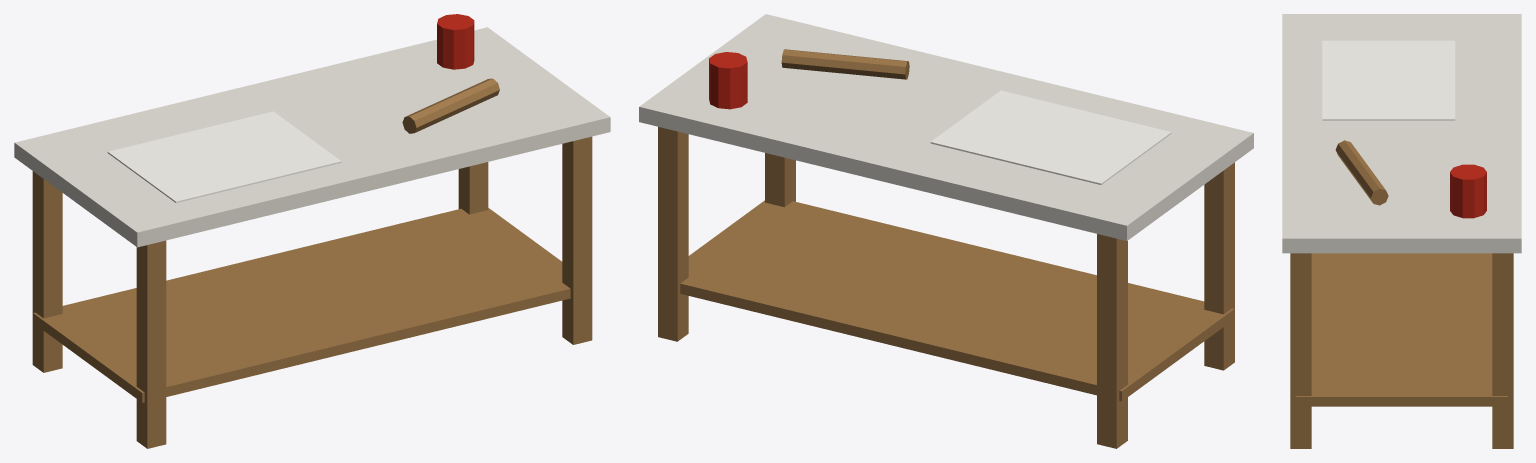
File: dough_table.glb
3 views of the same model, side by side, from view 1: azimuth 30°, elevation 25°; view 2: azimuth 150°, elevation 25°; view 3: azimuth 270°, elevation 25° (orthographic). The views are drawn at different scales.
Visible parts, largest first — view 1: top_marble, shelf_table_wood, legs_table_wood, flour_flour_dust, jar_sauce_red, pin_table_wood; view 2: top_marble, shelf_table_wood, legs_table_wood, flour_flour_dust, pin_table_wood, jar_sauce_red; view 3: top_marble, shelf_table_wood, flour_flour_dust, legs_table_wood, jar_sauce_red, pin_table_wood.
Boxes of the visible parts, x1,y1,x2,y2 form: top_marble: (14, 27, 610, 247); shelf_table_wood: (33, 208, 570, 402); legs_table_wood: (32, 136, 592, 448); flour_flour_dust: (107, 111, 341, 202); jar_sauce_red: (437, 14, 474, 69); pin_table_wood: (402, 78, 499, 133); top_marble: (639, 14, 1253, 240); shelf_table_wood: (680, 200, 1234, 401); legs_table_wood: (658, 127, 1234, 448); flour_flour_dust: (930, 90, 1171, 184); pin_table_wood: (781, 49, 909, 79); jar_sauce_red: (709, 52, 747, 109); top_marble: (1282, 14, 1521, 253); shelf_table_wood: (1295, 253, 1508, 406); flour_flour_dust: (1322, 40, 1455, 120); legs_table_wood: (1290, 253, 1513, 448); jar_sauce_red: (1450, 164, 1486, 218); pin_table_wood: (1335, 140, 1388, 205).
Bounding box in the file's own units: 2 × 1.06 × 0.9.
